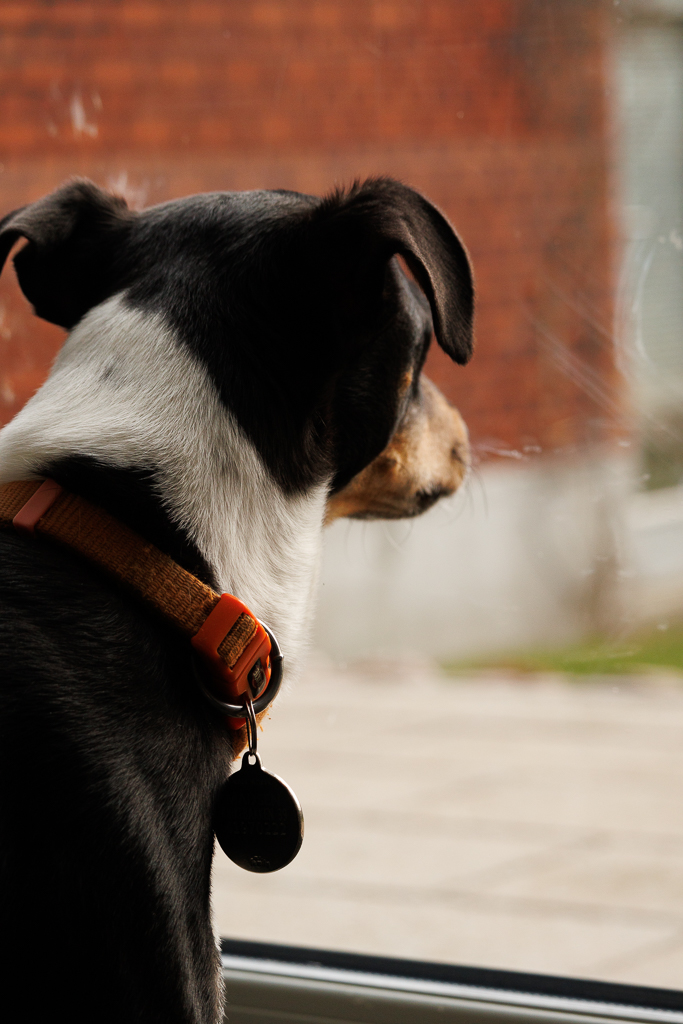Dog: (0, 151, 509, 1024)
